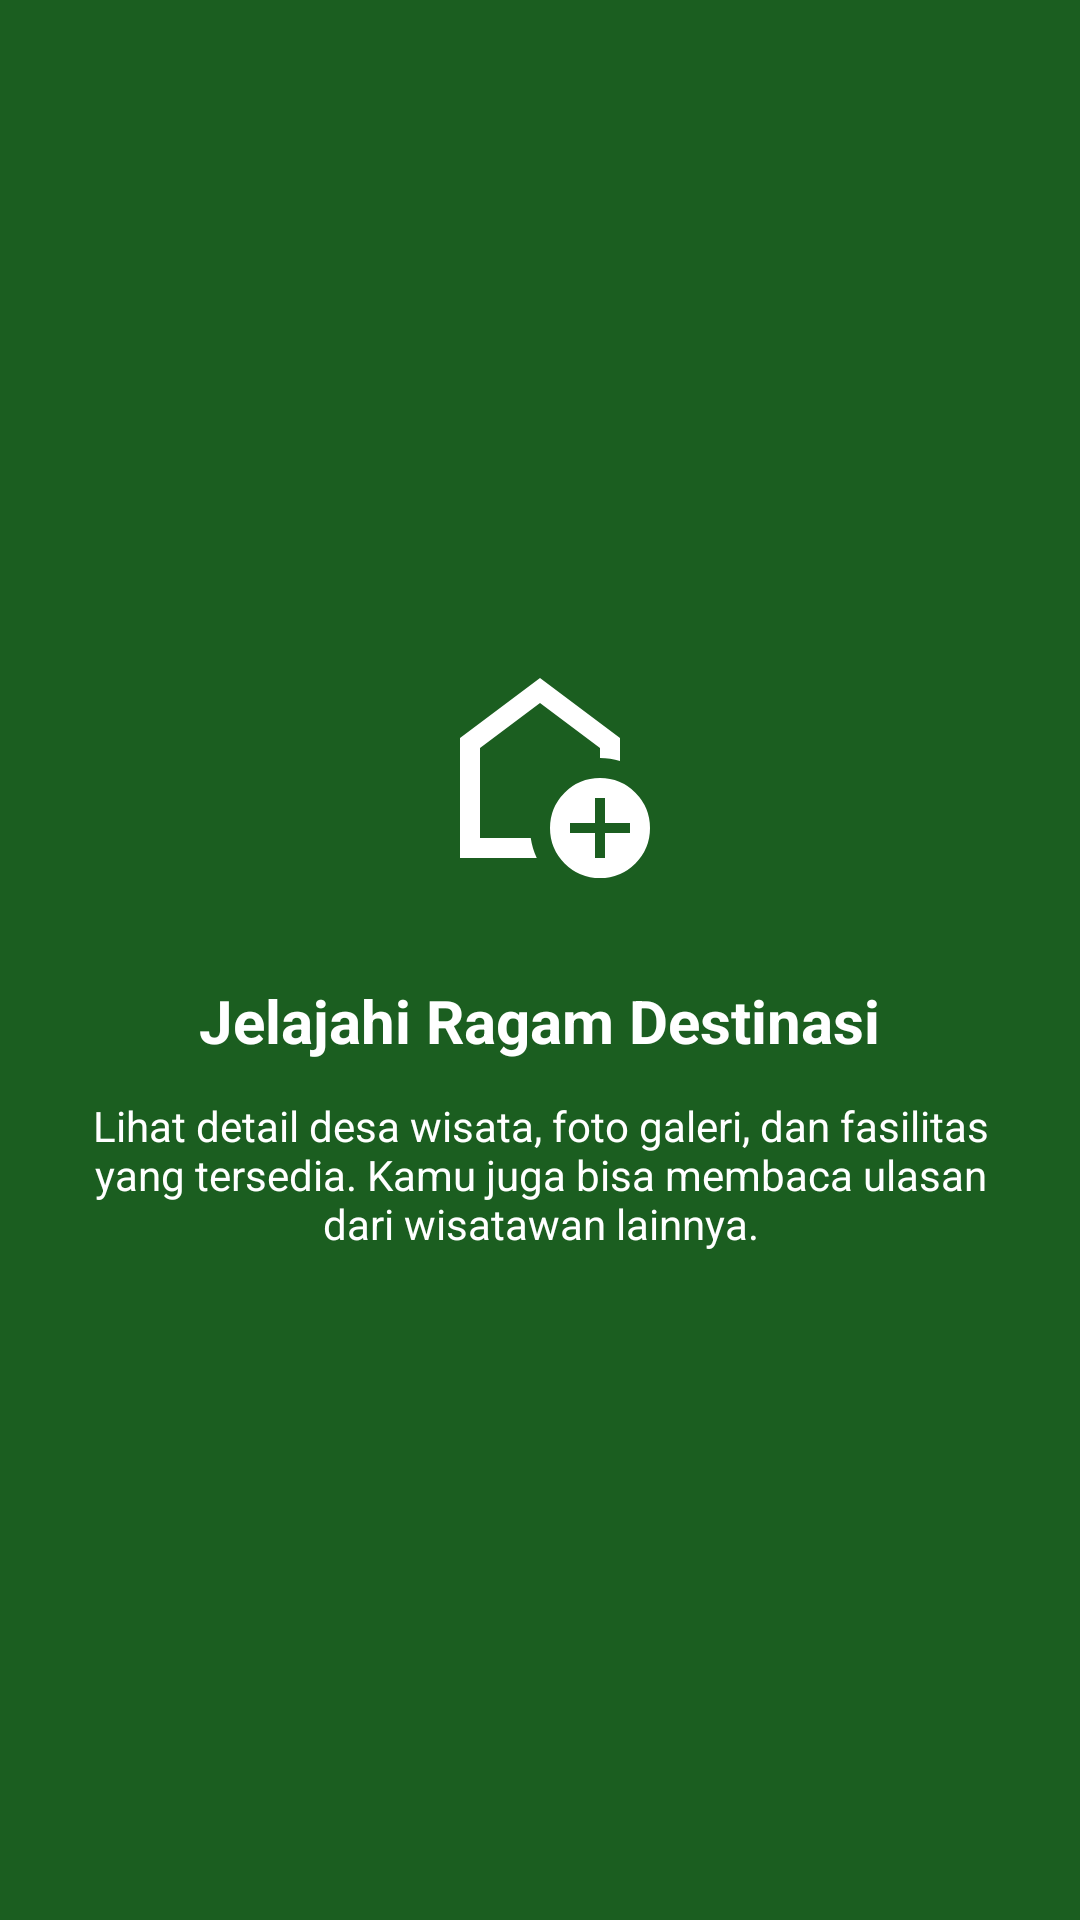

Point at icon controls on the screen. Image size 1080px×1920px, points as [x,y].
home: [555,778]
